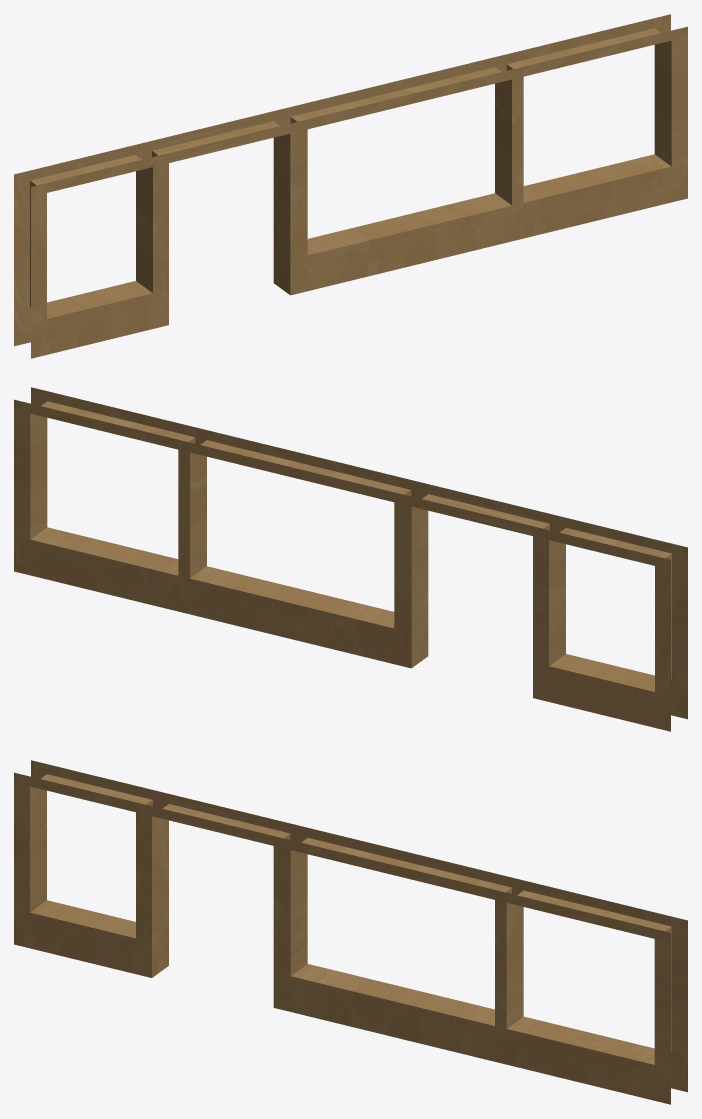
The model's file is WindowWall_Wall.fbx.
The picture shows the model from 3 angles, top to bottom: view 1: azimuth 30°, elevation 25°; view 2: azimuth 150°, elevation 25°; view 3: azimuth 330°, elevation 25°; orthographic projection.
Visible parts, largest first — view 1: Plane001; view 2: Plane001; view 3: Plane001.
Part boxes in pixels (bbox=[...]): Plane001: bbox=[14, 14, 687, 358]; Plane001: bbox=[14, 387, 687, 731]; Plane001: bbox=[14, 760, 687, 1104].
Size of the model in its own units: 200 by 50 by 8.94.
